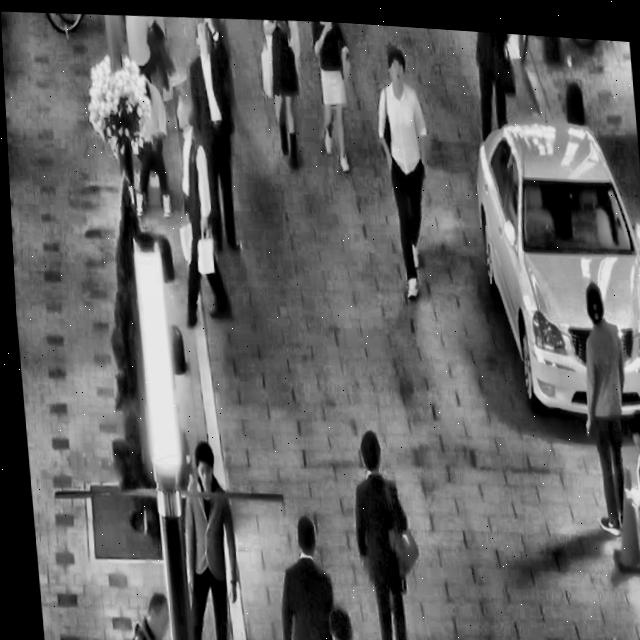light_vehicle: (462, 87, 640, 426)
